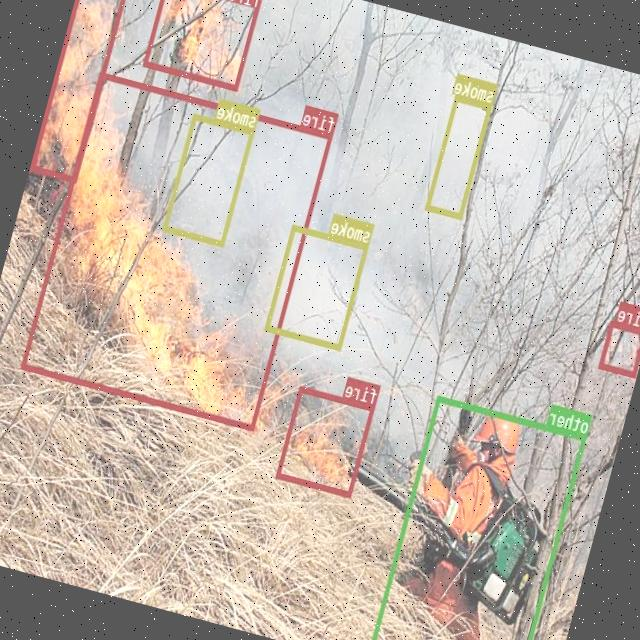fire: (21, 70, 333, 430), (31, 0, 132, 181), (276, 385, 376, 497), (143, 0, 266, 90), (599, 319, 640, 376)
smoke: (266, 223, 370, 349), (163, 113, 255, 246), (425, 94, 493, 218)
